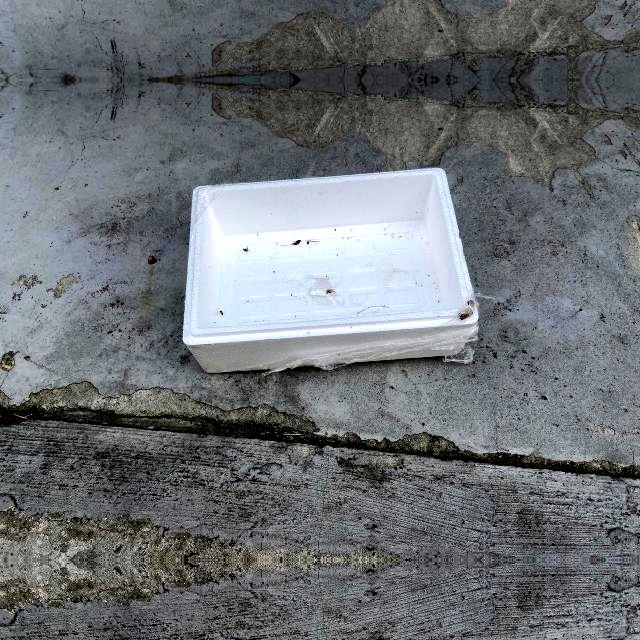Styrofoam: (180, 166, 480, 374), (182, 168, 479, 373)
